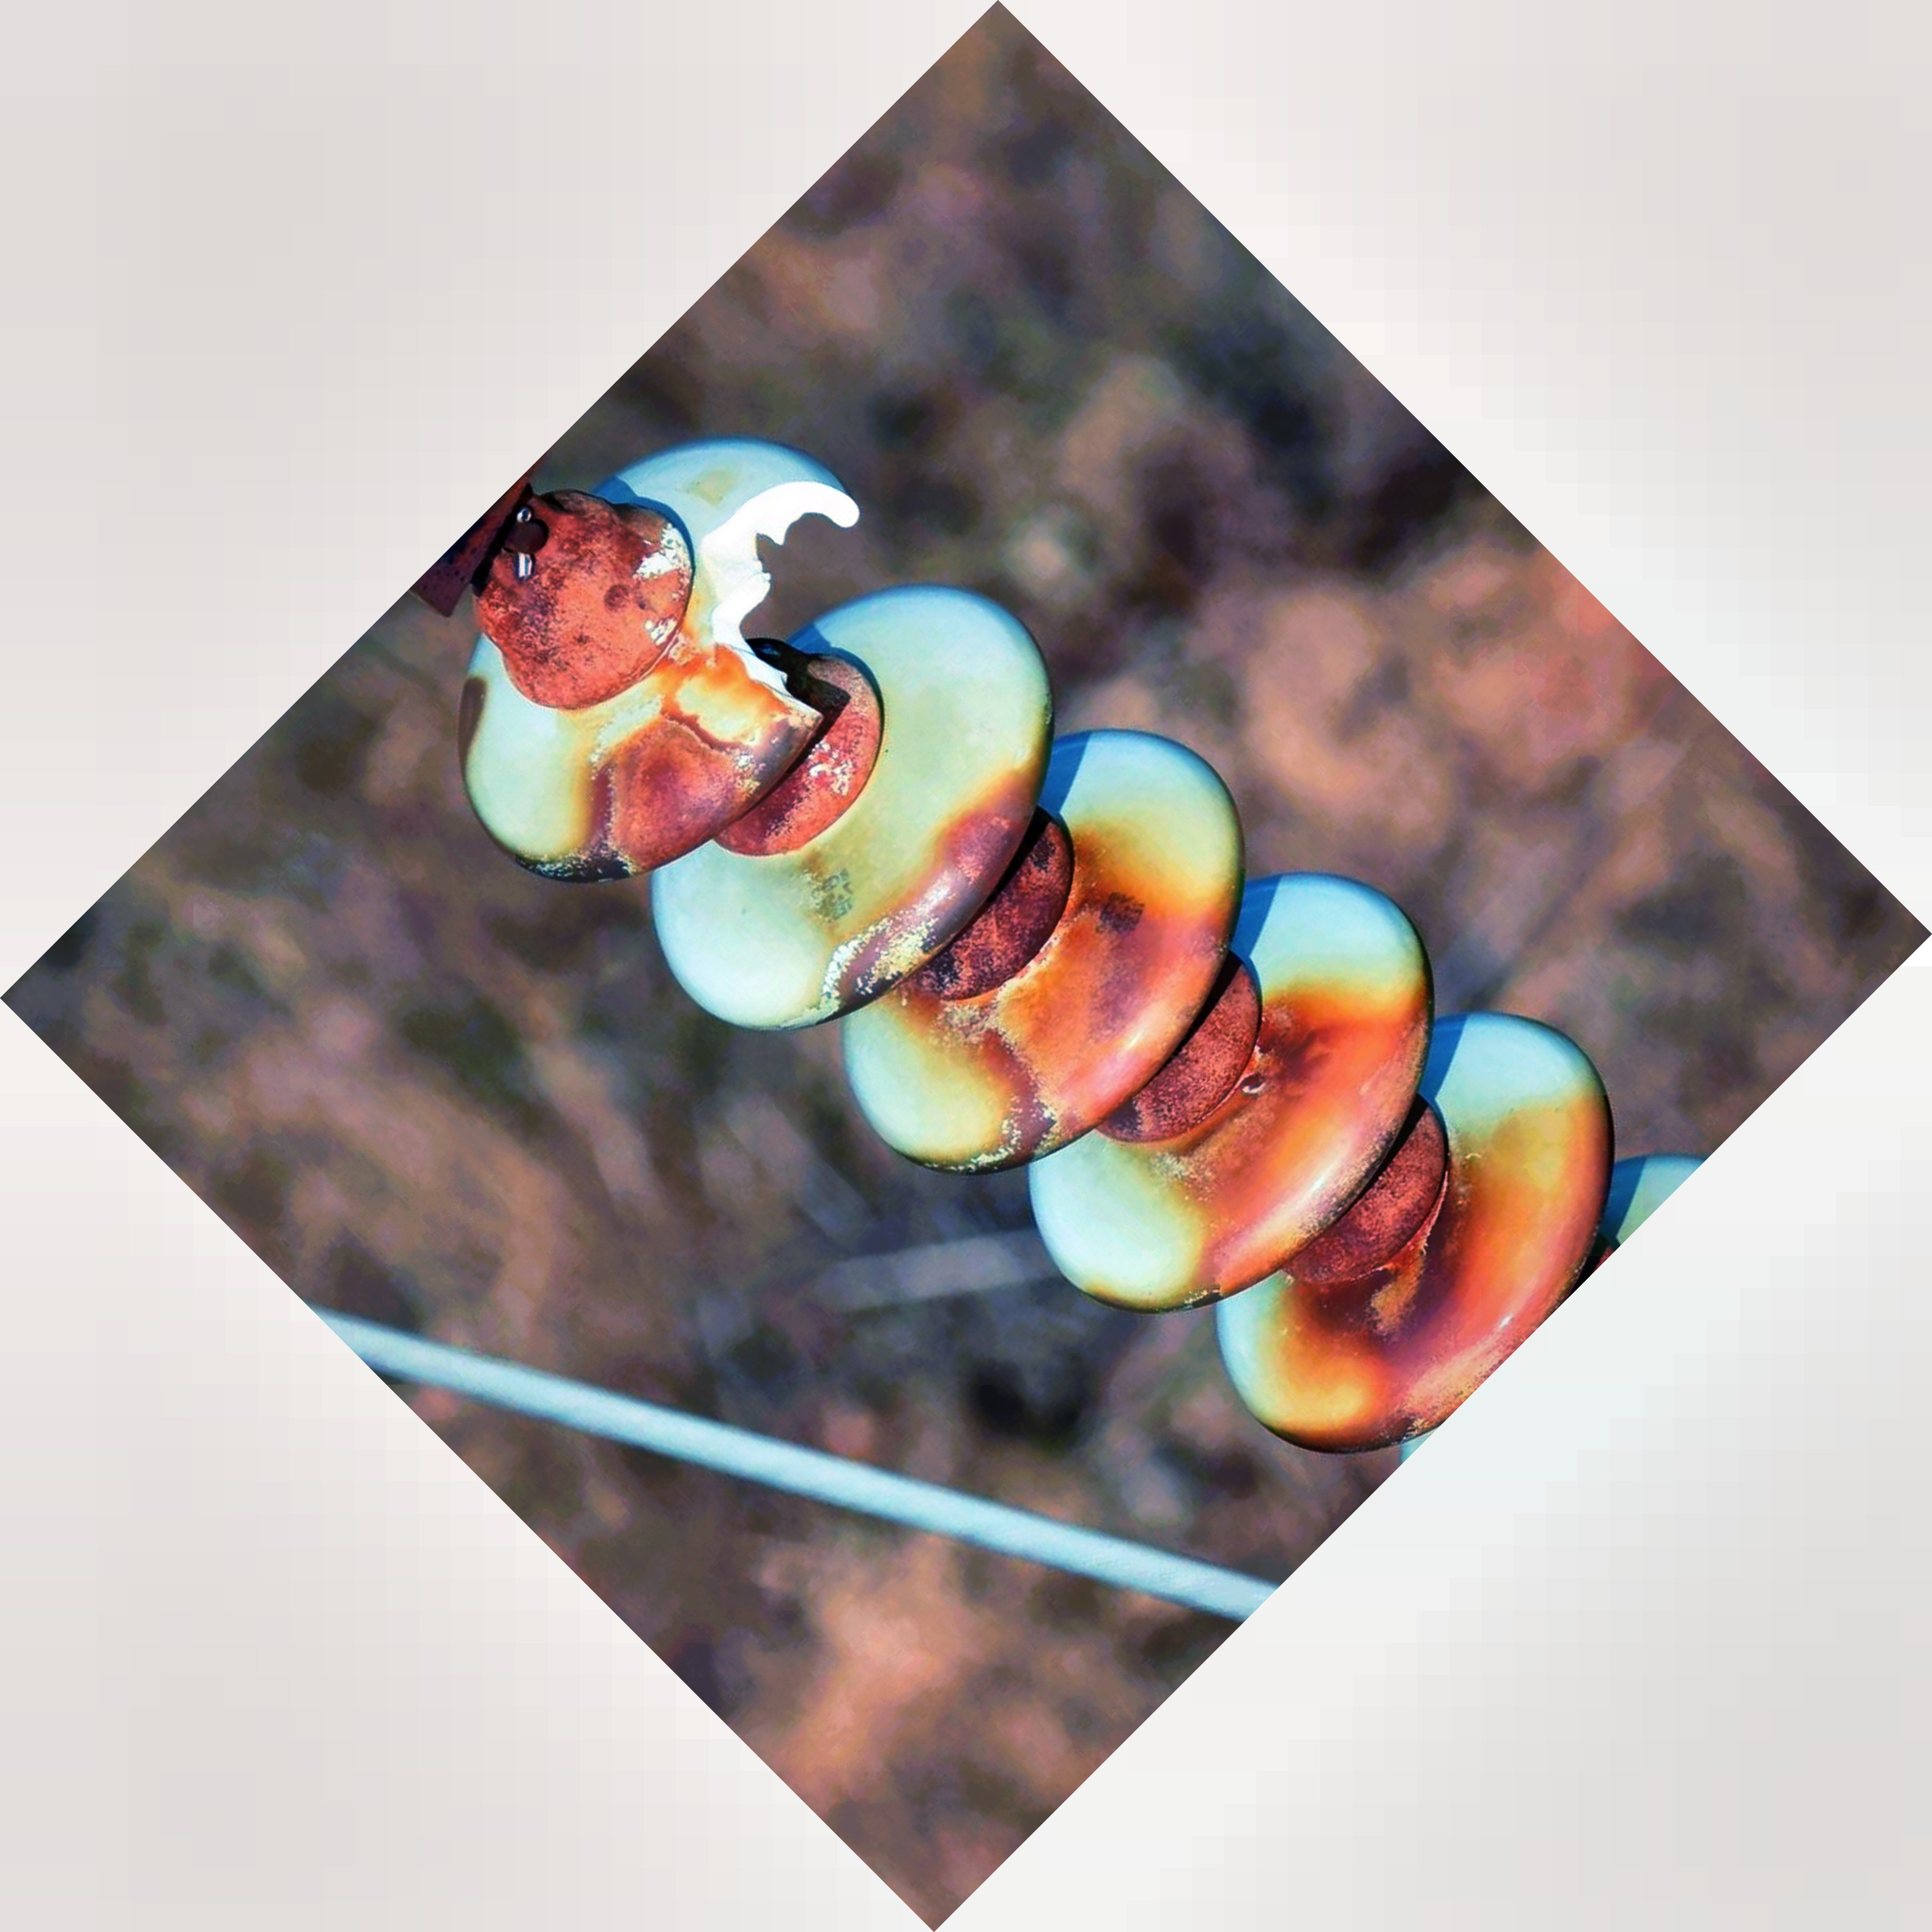insulator breakage: (441, 425, 878, 902)
